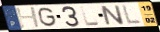3: (60, 5, 80, 28)
G: (37, 6, 58, 28)
H: (15, 6, 42, 30)
L: (79, 5, 101, 27), (121, 4, 143, 25)
N: (99, 5, 127, 26)
